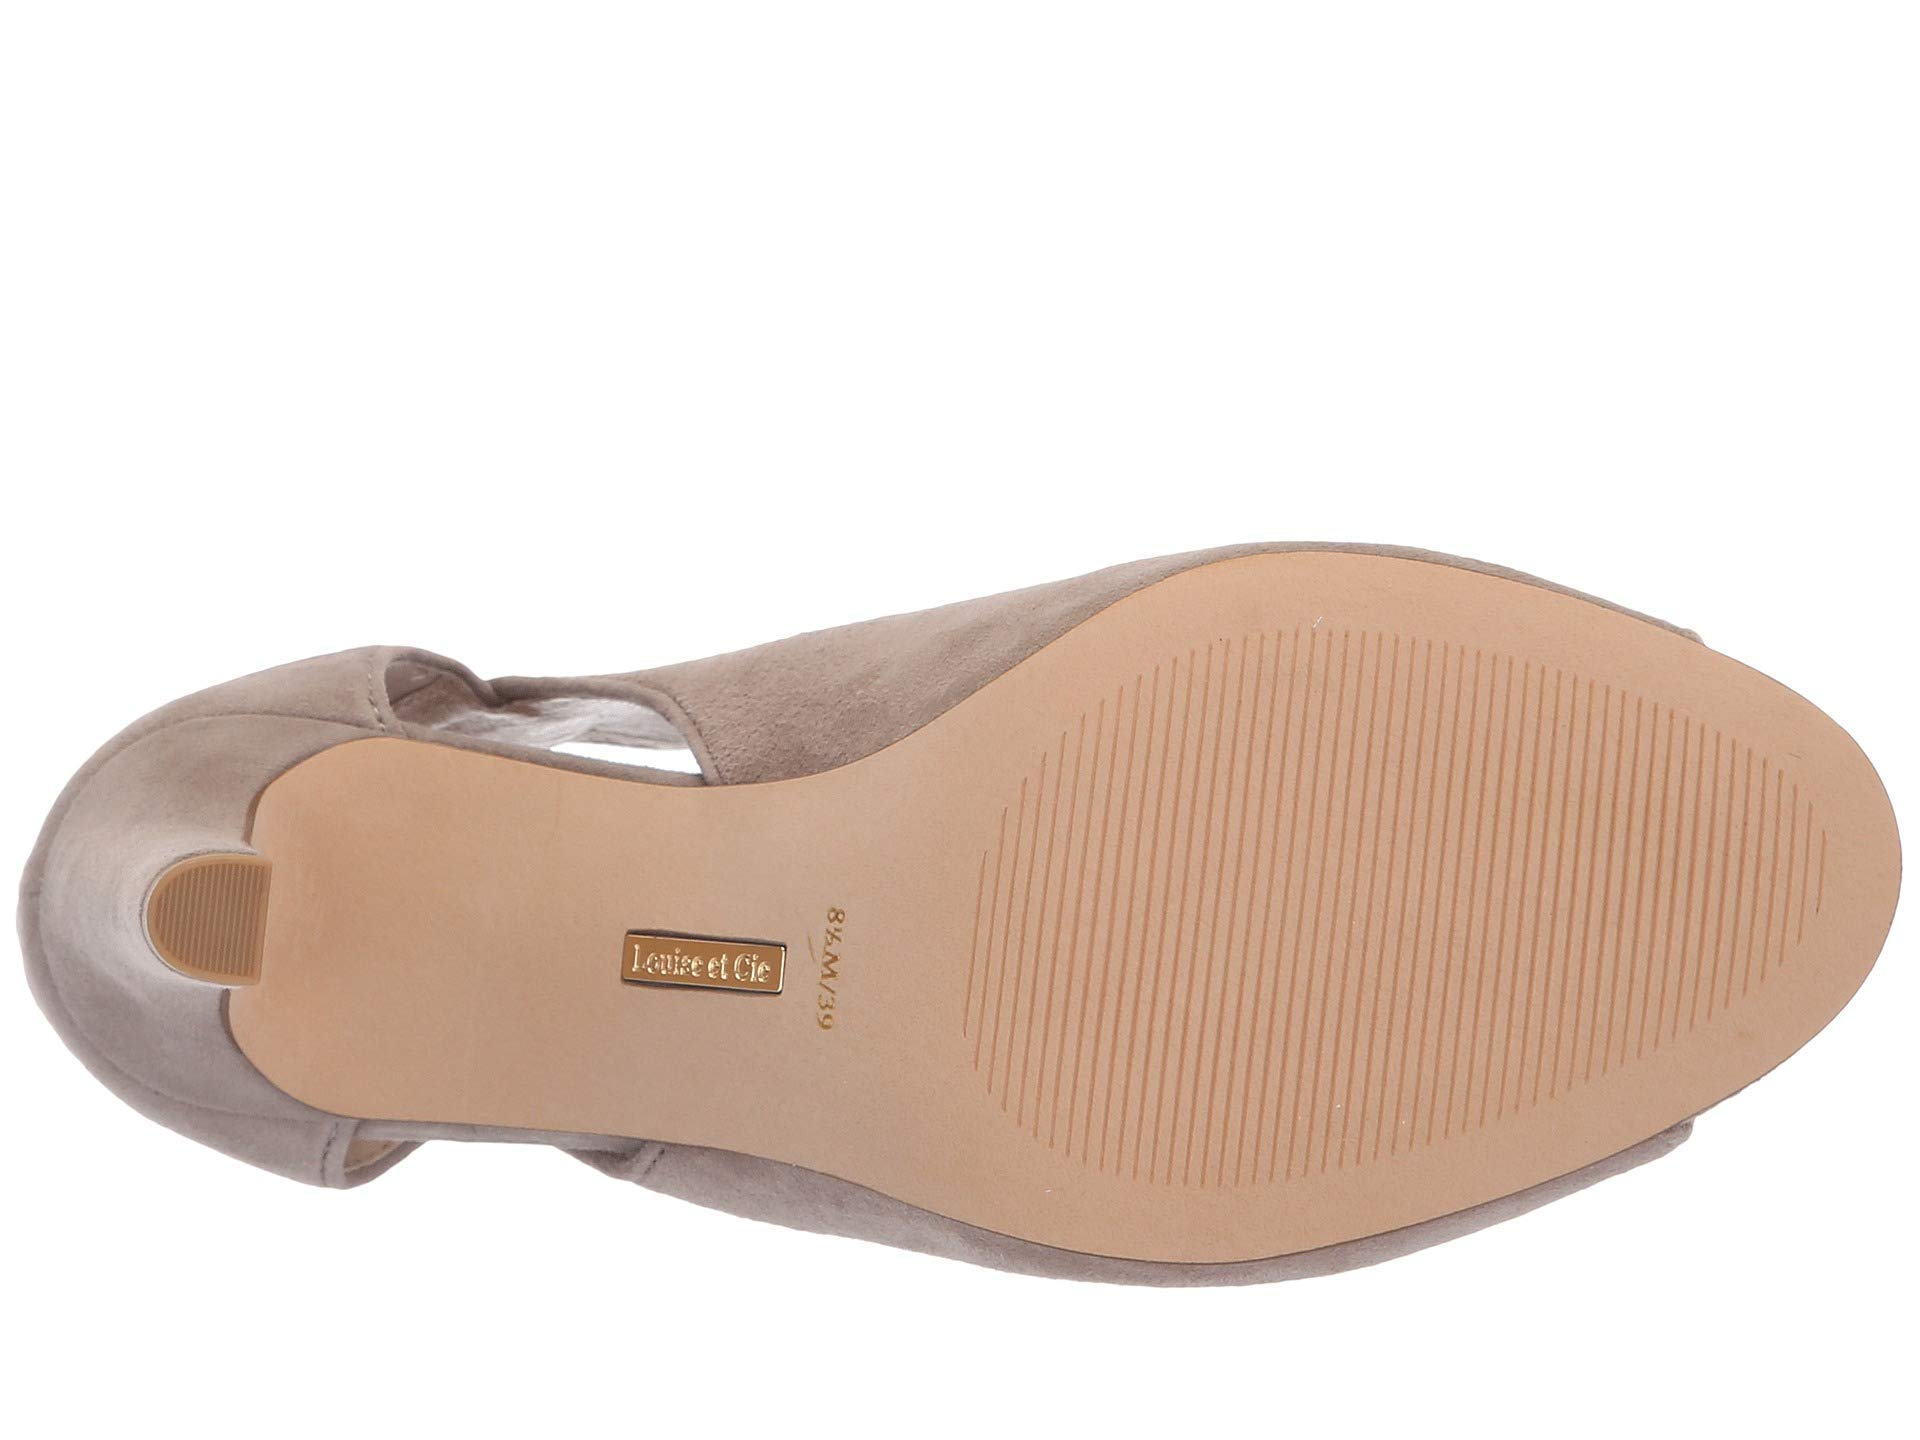line: (1138, 691, 1615, 1065), (183, 885, 251, 957)
